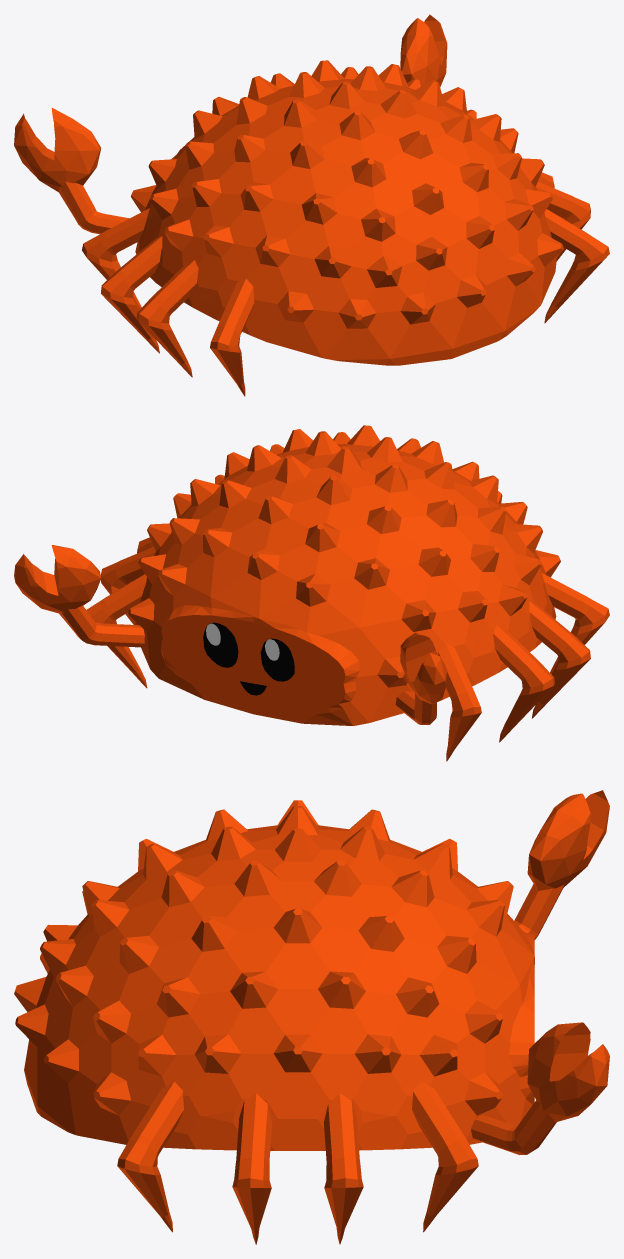
Rendered from crab.glb.
3 views of the same model, one above another, from view 1: azimuth 30°, elevation 25°; view 2: azimuth 150°, elevation 25°; view 3: azimuth 270°, elevation 25° (orthographic). The views are drawn at different scales.
Parts seen in each view (by area): view 1: ferris_0; view 2: ferris_0; view 3: ferris_0.
Boxes of the visible parts, <box> form: ferris_0: <box>14,14,609,396</box>; ferris_0: <box>14,425,609,761</box>; ferris_0: <box>14,790,609,1244</box>.
Size of the model in its own units: 1.74 by 0.886 by 1.55.
